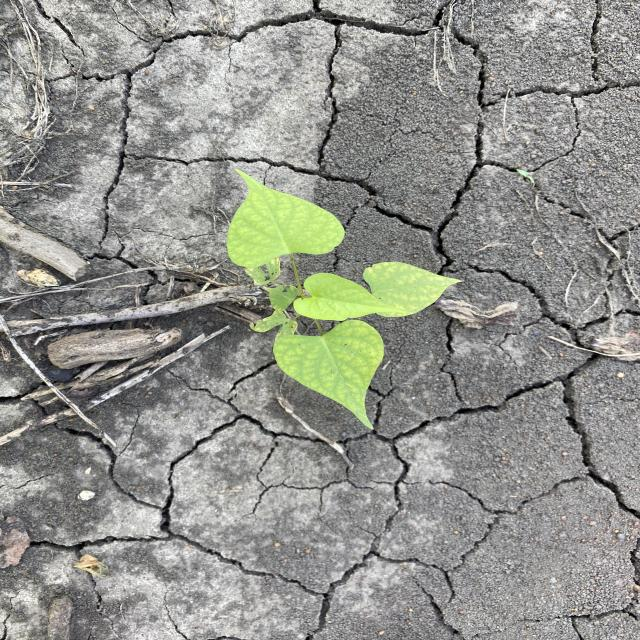MorningGlory: (225, 168, 461, 432)
